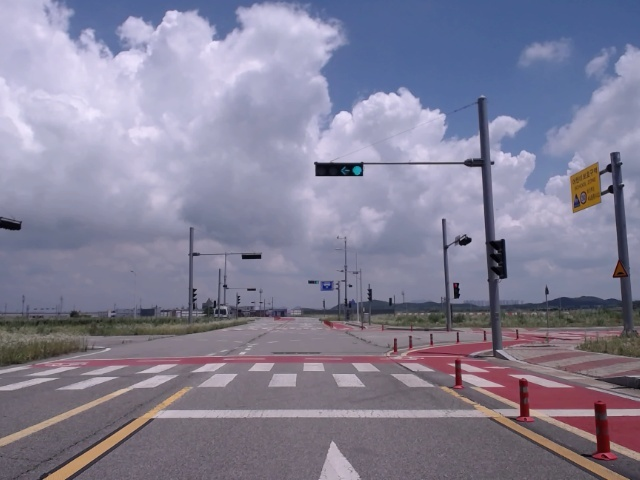all_green_4: (313, 164, 360, 175)
